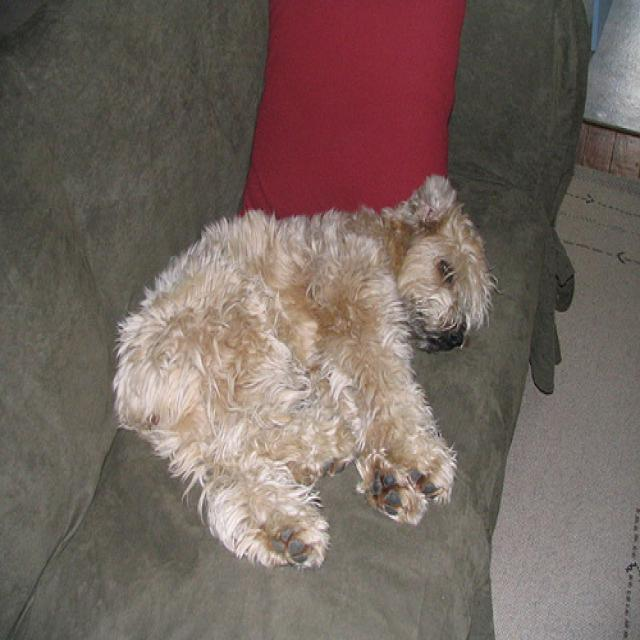dog-wheaten_terrier: (104, 155, 486, 579)
